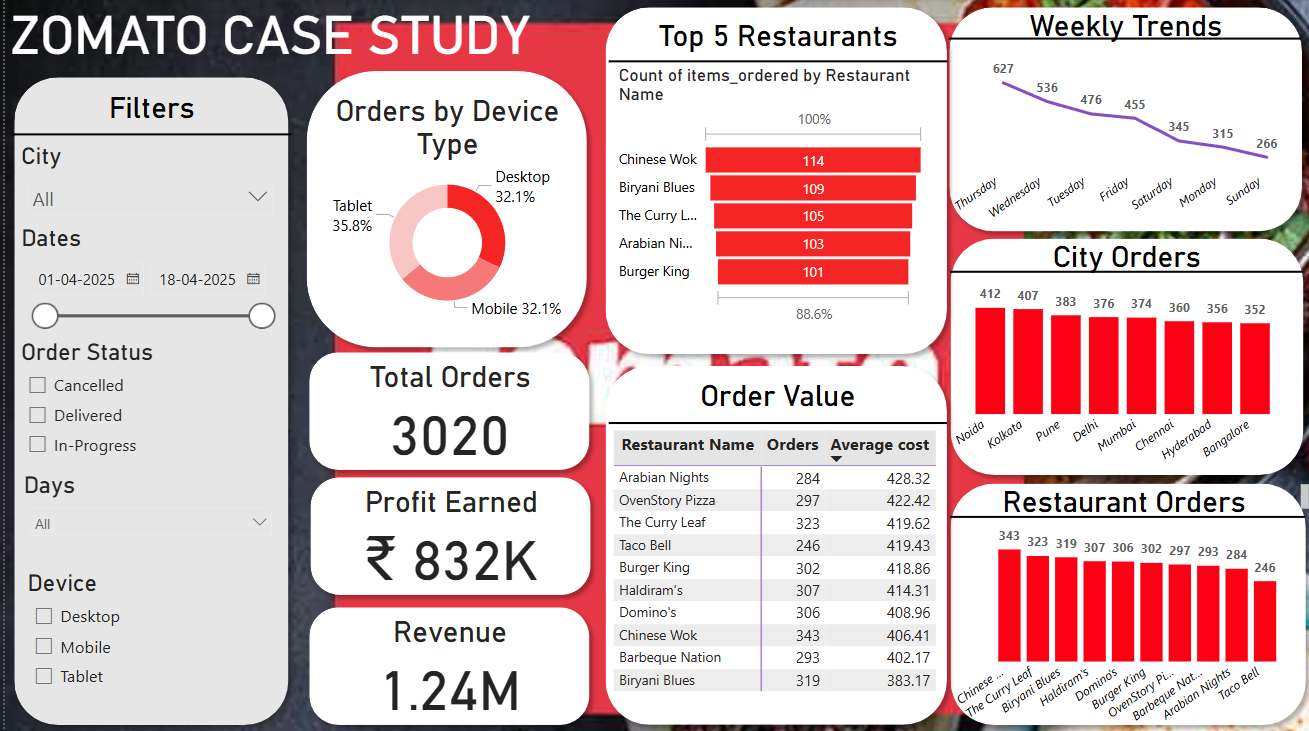

This screenshot's page, from the dashboard's own definition file:
{"tool":"powerbi","page":{"name":"Page 1","canvas":[1280,720],"ordinal":0},"visuals":[{"type":"textbox","box":[0,0,590.6,99],"z":0},{"type":"group","id":"g1","title":"Group 6","box":[578.4,0,352.4,357.6],"z":0,"group":"g16"},{"type":"shape","box":[578.4,0,352.4,357.6],"z":0,"group":"g1"},{"type":"group","id":"g2","title":"Group 1","box":[914.7,0,363.2,237.2],"z":0,"group":"g14"},{"type":"shape","box":[914.7,0,363.2,237.2],"z":0,"group":"g2"},{"type":"group","id":"g3","title":"Group 3","box":[590.6,14.9,331.6,60.6],"z":0,"group":"g9"},{"type":"group","id":"g4","title":"Group 4","box":[590.6,14.9,331.6,60.6],"z":0,"group":"g3"},{"type":"textbox","box":[591.1,14.9,331.1,49.7],"z":0,"group":"g4"},{"type":"shape","box":[286.1,62.4,292.3,288.6],"z":0,"group":"g17"},{"type":"shape","box":[0,68.5,286.1,651.8],"z":0,"group":"g12"},{"type":"group","id":"g5","title":"Group 1","box":[915.9,226.2,363.2,249.5],"z":0,"group":"g13"},{"type":"shape","box":[915.9,226.2,363.2,249.5],"z":0,"group":"g5"},{"type":"shape","box":[578.4,351,352.2,369.3],"z":0,"group":"g15"},{"type":"group","id":"g6","title":"Group 3","box":[590.6,366.3,331.1,340.2],"z":0,"group":"g10"},{"type":"group","id":"g7","title":"Group 4","box":[590.6,366.3,331.4,339.9],"z":0,"group":"g6"},{"type":"pivotTable","fields":{"Rows":["zomato_order_data.Restaurant Name"],"Values":["Sum(zomato_order_data.number_of_items)","Avg(zomato_order_data.cost)"]},"box":[590.6,417.4,325.3,288.8],"z":0,"group":"g7"},{"type":"group","id":"g8","title":"Group 1","box":[915.9,465.9,365.6,254.3],"z":0,"group":"g11"},{"type":"shape","box":[915.9,465.9,365.6,254.3],"z":0,"group":"g8"},{"type":"group","id":"g9","title":"Group 5","box":[590.6,14.9,331.6,60.6],"z":1000,"group":"g1"},{"type":"shape","box":[922.8,26.6,344.7,25.6],"z":1000,"group":"g2"},{"type":"shape","box":[590.6,49.4,331.1,26.1],"z":1000,"group":"g4"},{"type":"funnel","fields":{"Category":["zomato_order_data.Restaurant Name"],"Y":["CountNonNull(zomato_order_data.items_ordered)"]},"box":[595.1,64.7,310.4,258.7],"z":1000,"group":"g16"},{"type":"donutChart","title":"Orders by Device Type","fields":{"Y":["CountNonNull(zomato_order_data.number_of_items)"],"Series":["zomato_order_data.Devic Type"]},"box":[309.2,92.5,247,227.4],"z":1000,"group":"g17"},{"type":"shape","box":[7.1,97.9,273.2,71.3],"z":1000,"group":"g12"},{"type":"shape","box":[924,254.1,344.7,26.9],"z":1000,"group":"g5"},{"type":"group","id":"g10","title":"Group 5","box":[590.6,366.3,331.4,339.9],"z":1000,"group":"g15"},{"type":"textbox","box":[591.1,366.3,330.9,51.3],"z":1000,"group":"g7"},{"type":"group","id":"g11","title":"Group 2","box":[915.9,465.9,365.6,254.3],"z":1000},{"type":"shape","box":[924.1,494.4,347,27.5],"z":1000,"group":"g8"},{"type":"lineChart","title":"Orders by city","fields":{"Category":["zomato_order_data.Order Week"],"Y":["Sum(zomato_order_data.number_of_items)"]},"box":[919.5,34.1,337.2,203.1],"z":2000,"group":"g2"},{"type":"group","id":"g12","title":"Group 2","box":[0,68.5,286.1,651.8],"z":2000},{"type":"slicer","title":"City","fields":{"Values":["zomato_order_data.restaurant_city"]},"box":[10.6,140.6,261.4,79.9],"z":2000,"group":"g12"},{"type":"columnChart","title":"Orders by city","fields":{"Y":["Sum(zomato_order_data.number_of_items)"],"Category":["zomato_order_data.restaurant_city"]},"box":[920.7,262.1,337.2,213.5],"z":2000,"group":"g5"},{"type":"shape","box":[590.6,402,330.9,27],"z":2000,"group":"g7"},{"type":"columnChart","title":"Orders by city","fields":{"Category":["zomato_order_data.restaurant_name"],"Y":["Sum(zomato_order_data.number_of_items)"]},"box":[920.7,502.5,339.5,217.7],"z":2000,"group":"g8"},{"type":"textbox","box":[916,4.9,360.7,46.5],"z":3000,"group":"g2"},{"type":"textbox","box":[28.3,85,230.8,45.6],"z":3000,"group":"g12"},{"type":"slicer","title":"Dates","fields":{"Values":["zomato_order_data.order_date"]},"box":[11,221.3,261.7,103.9],"z":3000},{"type":"textbox","box":[917.2,231.3,360.7,48.9],"z":3000,"group":"g5"},{"type":"textbox","box":[917.3,471,363.1,37.6],"z":3000,"group":"g8"},{"type":"slicer","title":"Order Status","fields":{"Values":["zomato_order_data.order_status"]},"box":[11,332.6,261.7,127.2],"z":4000},{"type":"slicer","title":"Device","fields":{"Values":["zomato_order_data.device_type"]},"box":[17.1,558.8,251.9,129.6],"z":5000},{"type":"slicer","title":"Days","fields":{"Values":["zomato_order_data.order_day_of_week"]},"box":[13.5,462.2,258,91.7],"z":6000},{"type":"group","id":"g13","title":"Group 2","box":[915.9,226.2,363.2,249.5],"z":7000},{"type":"group","id":"g14","title":"Group 2","box":[914.7,0,363.2,237.2],"z":8000},{"type":"group","id":"g15","title":"Group 6","box":[578.4,351,352.2,369.3],"z":9000},{"type":"group","id":"g16","title":"Group 7","box":[578.4,0,352.2,357.1],"z":13000},{"type":"shape","box":[288.6,337.5,292.3,133.3],"z":13500,"group":"g20"},{"type":"shape","box":[289.8,459.8,292.3,133.3],"z":13500,"group":"g18"},{"type":"shape","box":[288.6,587,292.3,133.3],"z":13500,"group":"g19"},{"type":"group","id":"g17","title":"Group 8","box":[286.1,62.4,292.3,288.6],"z":14000},{"type":"card","title":"Total Orders","fields":{"Values":["zomato_order_data.total order items"]},"box":[311.8,353.4,247,102.7],"z":16000,"group":"g20"},{"type":"card","title":"Profit Earned","fields":{"Values":["zomato_order_data.Profit"]},"box":[313,475.7,247,102.7],"z":16000,"group":"g18"},{"type":"card","title":"Revenue","fields":{"Values":["zomato_order_data.Revenue"]},"box":[311.8,602.9,247,102.7],"z":16000,"group":"g19"},{"type":"group","id":"g18","title":"Group 9","box":[289.8,459.8,292.3,133.3],"z":16001},{"type":"group","id":"g19","title":"Group 9","box":[288.6,587,292.3,133.3],"z":16002},{"type":"group","id":"g20","title":"Group 9","box":[288.6,337.5,292.3,133.3],"z":16003}]}

Visuals, with their boxes in screenshot pixels (x1, y1, x2, y2), scaled from the page's 1280x720 canvas onto the 1309x731 screenshot:
textbox: x1=0, y1=0, x2=604, y2=101
"Group 6" group: x1=592, y1=0, x2=952, y2=363
shape: x1=592, y1=0, x2=952, y2=363
"Group 1" group: x1=935, y1=0, x2=1307, y2=241
shape: x1=935, y1=0, x2=1307, y2=241
"Group 3" group: x1=604, y1=15, x2=943, y2=77
"Group 4" group: x1=604, y1=15, x2=943, y2=77
textbox: x1=604, y1=15, x2=943, y2=66
shape: x1=293, y1=63, x2=592, y2=356
shape: x1=0, y1=70, x2=293, y2=730
"Group 1" group: x1=937, y1=230, x2=1308, y2=483
shape: x1=937, y1=230, x2=1308, y2=483
shape: x1=592, y1=356, x2=952, y2=730
"Group 3" group: x1=604, y1=372, x2=943, y2=717
"Group 4" group: x1=604, y1=372, x2=943, y2=717
pivotTable - zomato_order_data.Restaurant Name x Sum(zomato_order_data.number_of_items): x1=604, y1=424, x2=937, y2=717
"Group 1" group: x1=937, y1=473, x2=1308, y2=730
shape: x1=937, y1=473, x2=1308, y2=730
"Group 5" group: x1=604, y1=15, x2=943, y2=77
shape: x1=944, y1=27, x2=1296, y2=53
shape: x1=604, y1=50, x2=943, y2=77
funnel - zomato_order_data.Restaurant Name x CountNonNull(zomato_order_data.items_ordered): x1=609, y1=66, x2=926, y2=328
"Orders by Device Type" donutChart: x1=316, y1=94, x2=569, y2=325
shape: x1=7, y1=99, x2=287, y2=172
shape: x1=945, y1=258, x2=1297, y2=285
"Group 5" group: x1=604, y1=372, x2=943, y2=717
textbox: x1=604, y1=372, x2=943, y2=424
"Group 2" group: x1=937, y1=473, x2=1308, y2=730
shape: x1=945, y1=502, x2=1300, y2=530
"Orders by city" lineChart: x1=940, y1=35, x2=1285, y2=241
"Group 2" group: x1=0, y1=70, x2=293, y2=730
"City" slicer: x1=11, y1=143, x2=278, y2=224
"Orders by city" columnChart: x1=942, y1=266, x2=1286, y2=483
shape: x1=604, y1=408, x2=942, y2=436
"Orders by city" columnChart: x1=942, y1=510, x2=1289, y2=730
textbox: x1=937, y1=5, x2=1306, y2=52
textbox: x1=29, y1=86, x2=265, y2=133
"Dates" slicer: x1=11, y1=225, x2=279, y2=330
textbox: x1=938, y1=235, x2=1307, y2=284
textbox: x1=938, y1=478, x2=1308, y2=516
"Order Status" slicer: x1=11, y1=338, x2=279, y2=467
"Device" slicer: x1=17, y1=567, x2=275, y2=699
"Days" slicer: x1=14, y1=469, x2=278, y2=562
"Group 2" group: x1=937, y1=230, x2=1308, y2=483
"Group 2" group: x1=935, y1=0, x2=1307, y2=241
"Group 6" group: x1=592, y1=356, x2=952, y2=730
"Group 7" group: x1=592, y1=0, x2=952, y2=363
shape: x1=295, y1=343, x2=594, y2=478
shape: x1=296, y1=467, x2=595, y2=602
shape: x1=295, y1=596, x2=594, y2=730
"Group 8" group: x1=293, y1=63, x2=592, y2=356
"Total Orders" card: x1=319, y1=359, x2=571, y2=463
"Profit Earned" card: x1=320, y1=483, x2=573, y2=587
"Revenue" card: x1=319, y1=612, x2=571, y2=716
"Group 9" group: x1=296, y1=467, x2=595, y2=602
"Group 9" group: x1=295, y1=596, x2=594, y2=730
"Group 9" group: x1=295, y1=343, x2=594, y2=478
